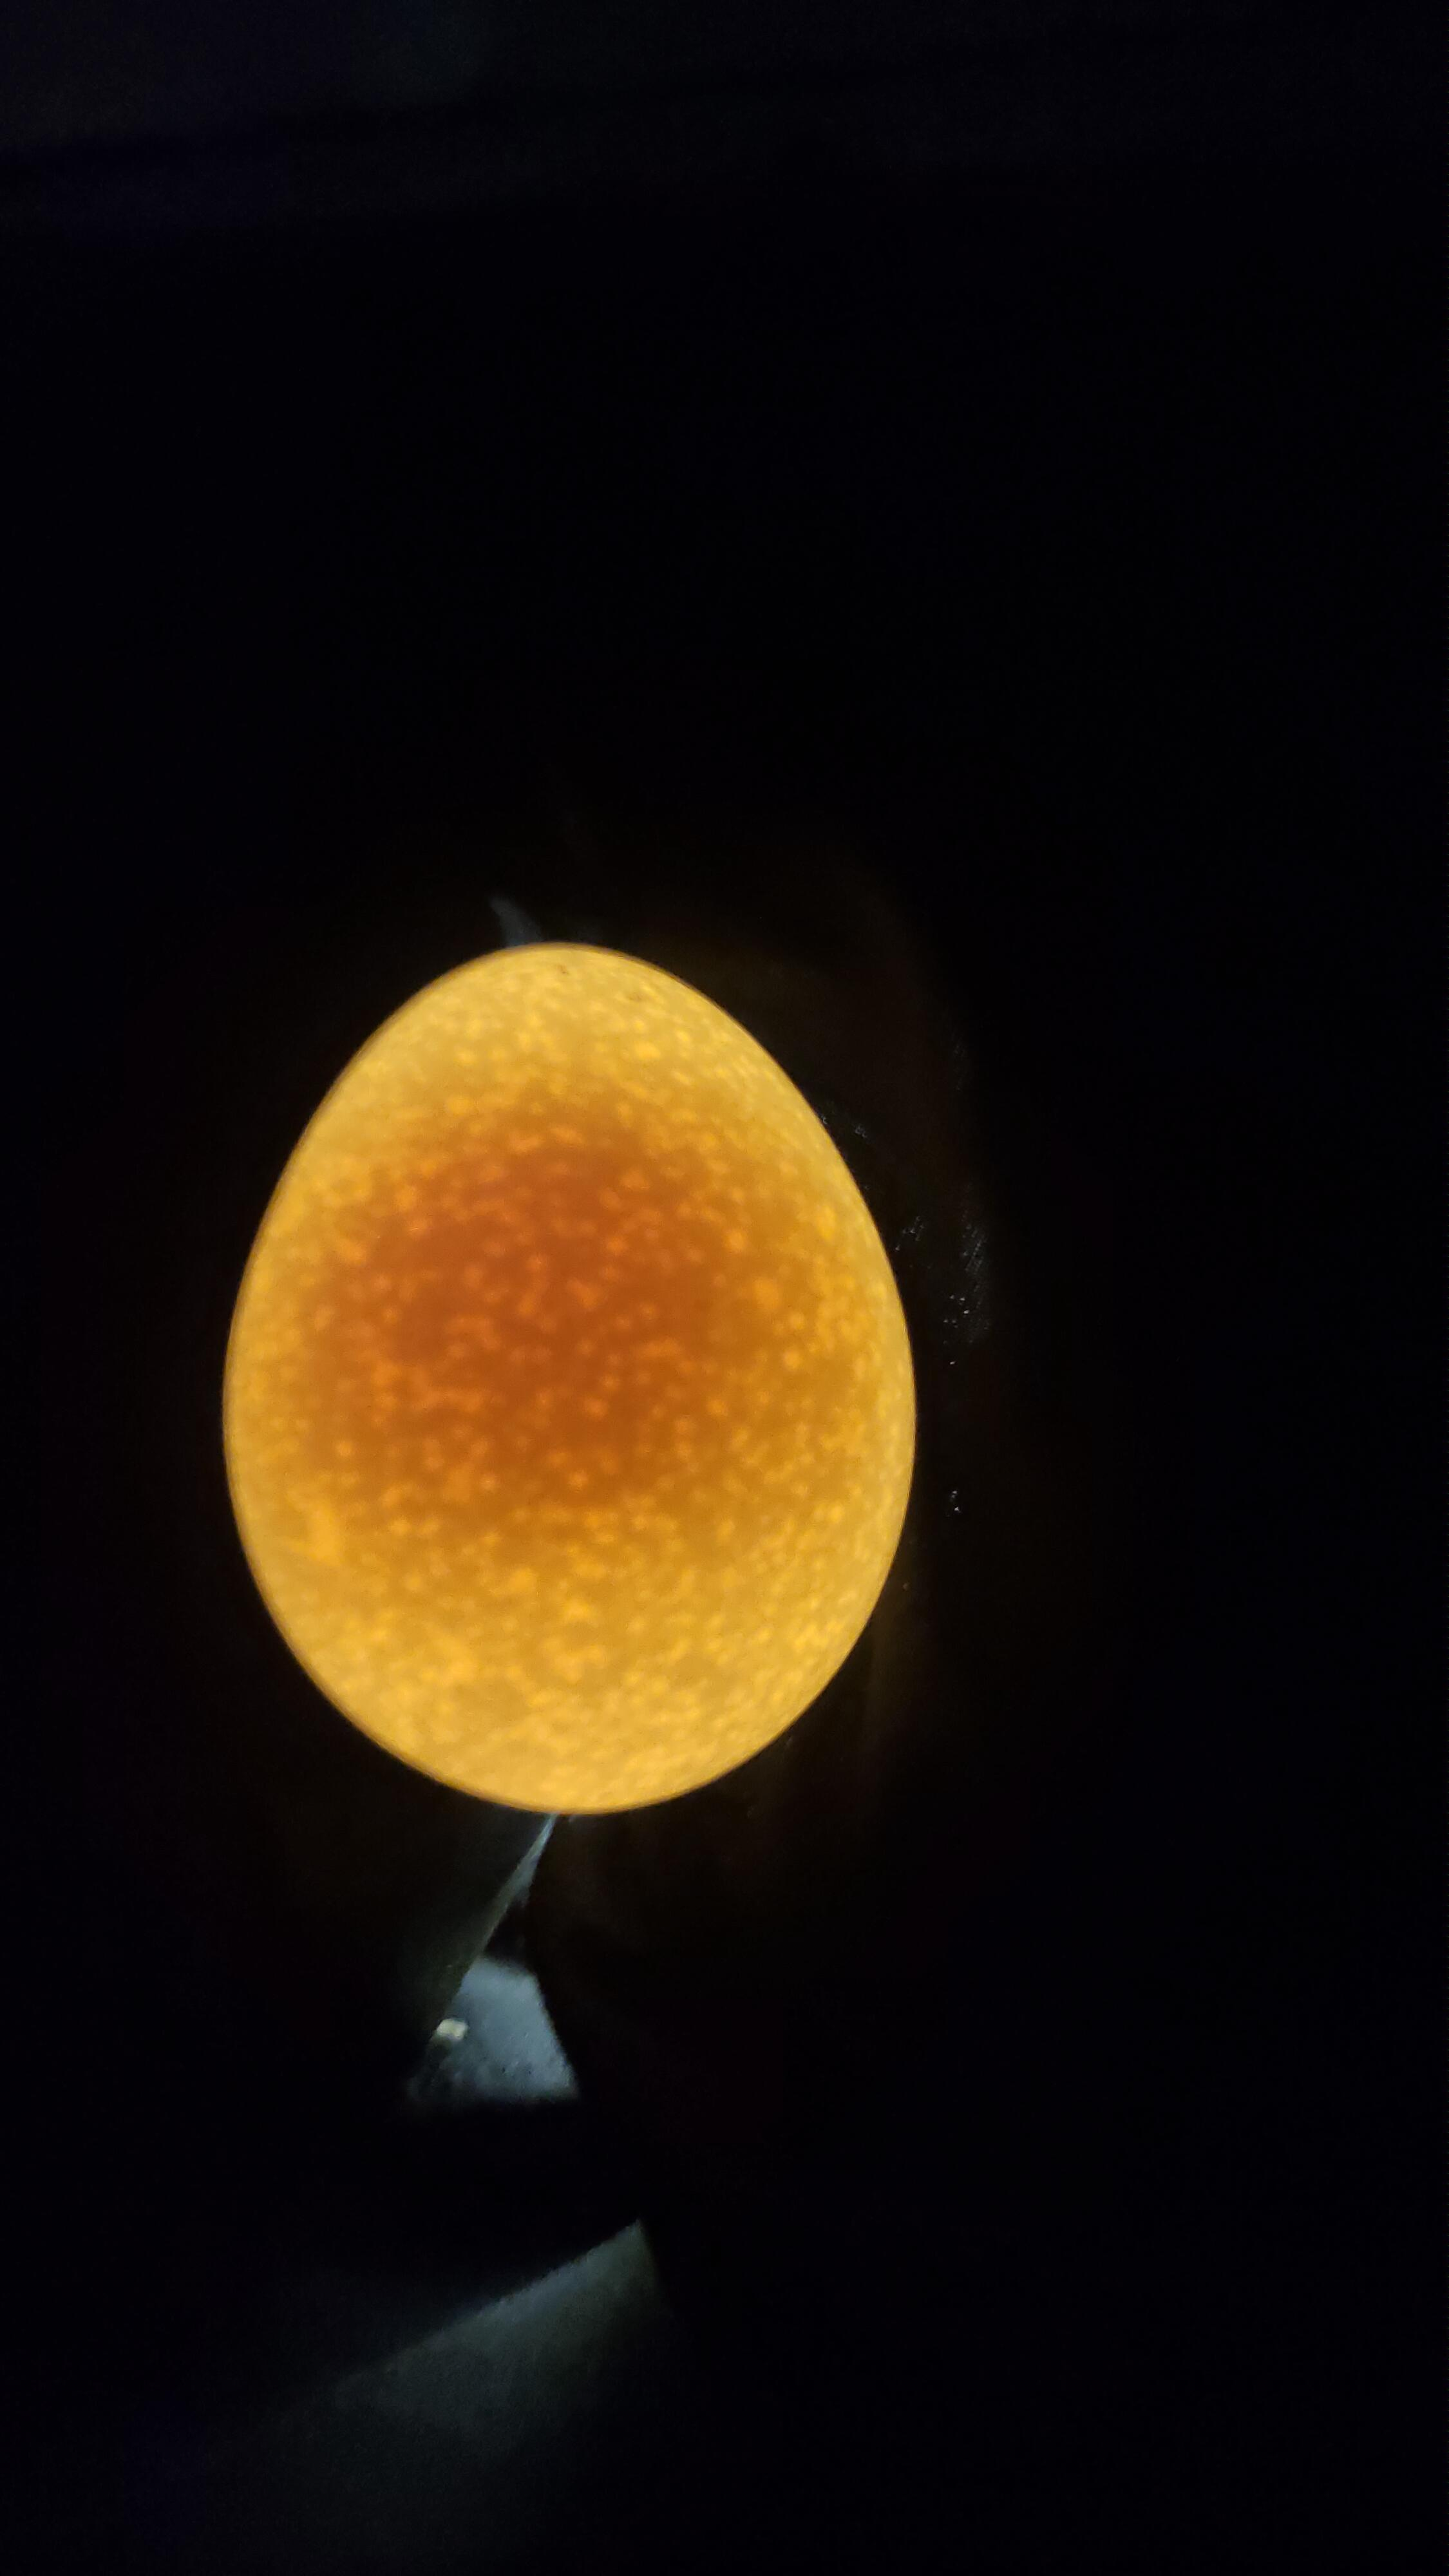A - Good: (161, 889, 966, 1880)
